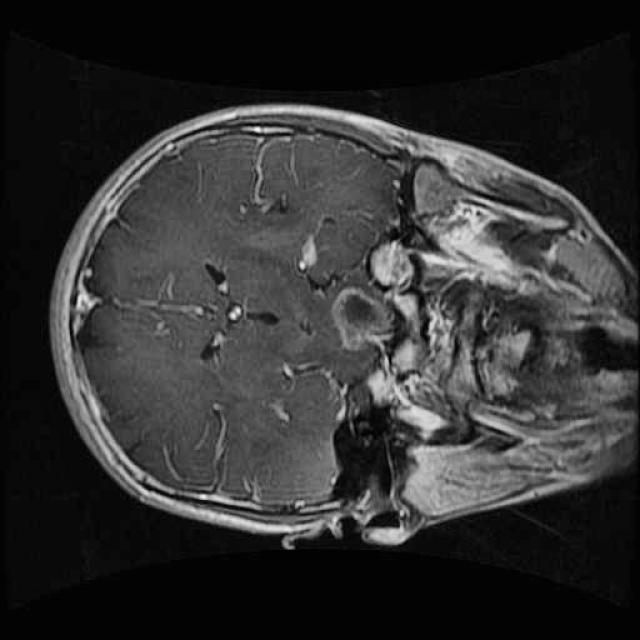Tumor: (321, 275, 410, 359)
